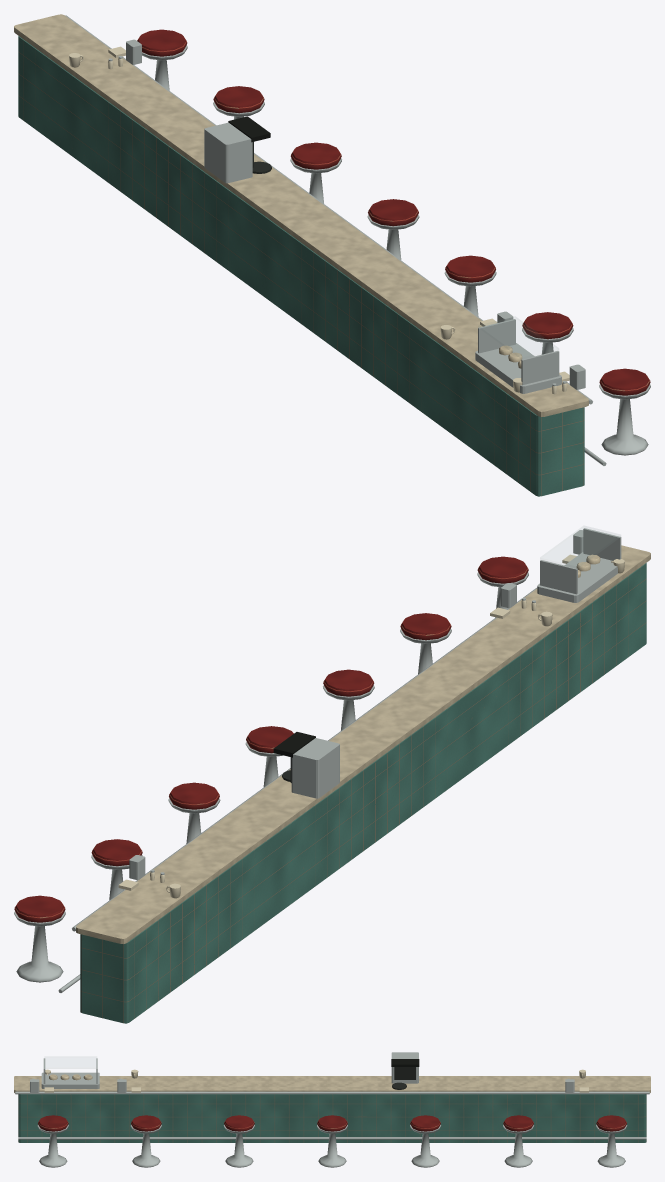
File: SM_Mesa_Counter_LOD1.fbx
3 renders of one model, top to bottom at view 1: azimuth 30°, elevation 25°; view 2: azimuth 150°, elevation 25°; view 3: azimuth 270°, elevation 25°, orthographic. The views are drawn at different scales.
Parts seen in each view (by area): view 1: SM_Mesa_Counter_LOD1; view 2: SM_Mesa_Counter_LOD1; view 3: SM_Mesa_Counter_LOD1.
Boxes of the visible parts, x1,y1,x2,y2 form: SM_Mesa_Counter_LOD1: [14, 14, 650, 496]; SM_Mesa_Counter_LOD1: [14, 528, 650, 1023]; SM_Mesa_Counter_LOD1: [14, 1052, 650, 1167].
Bounding box in the file's own units: 1.68 × 10.95 × 1.46.
